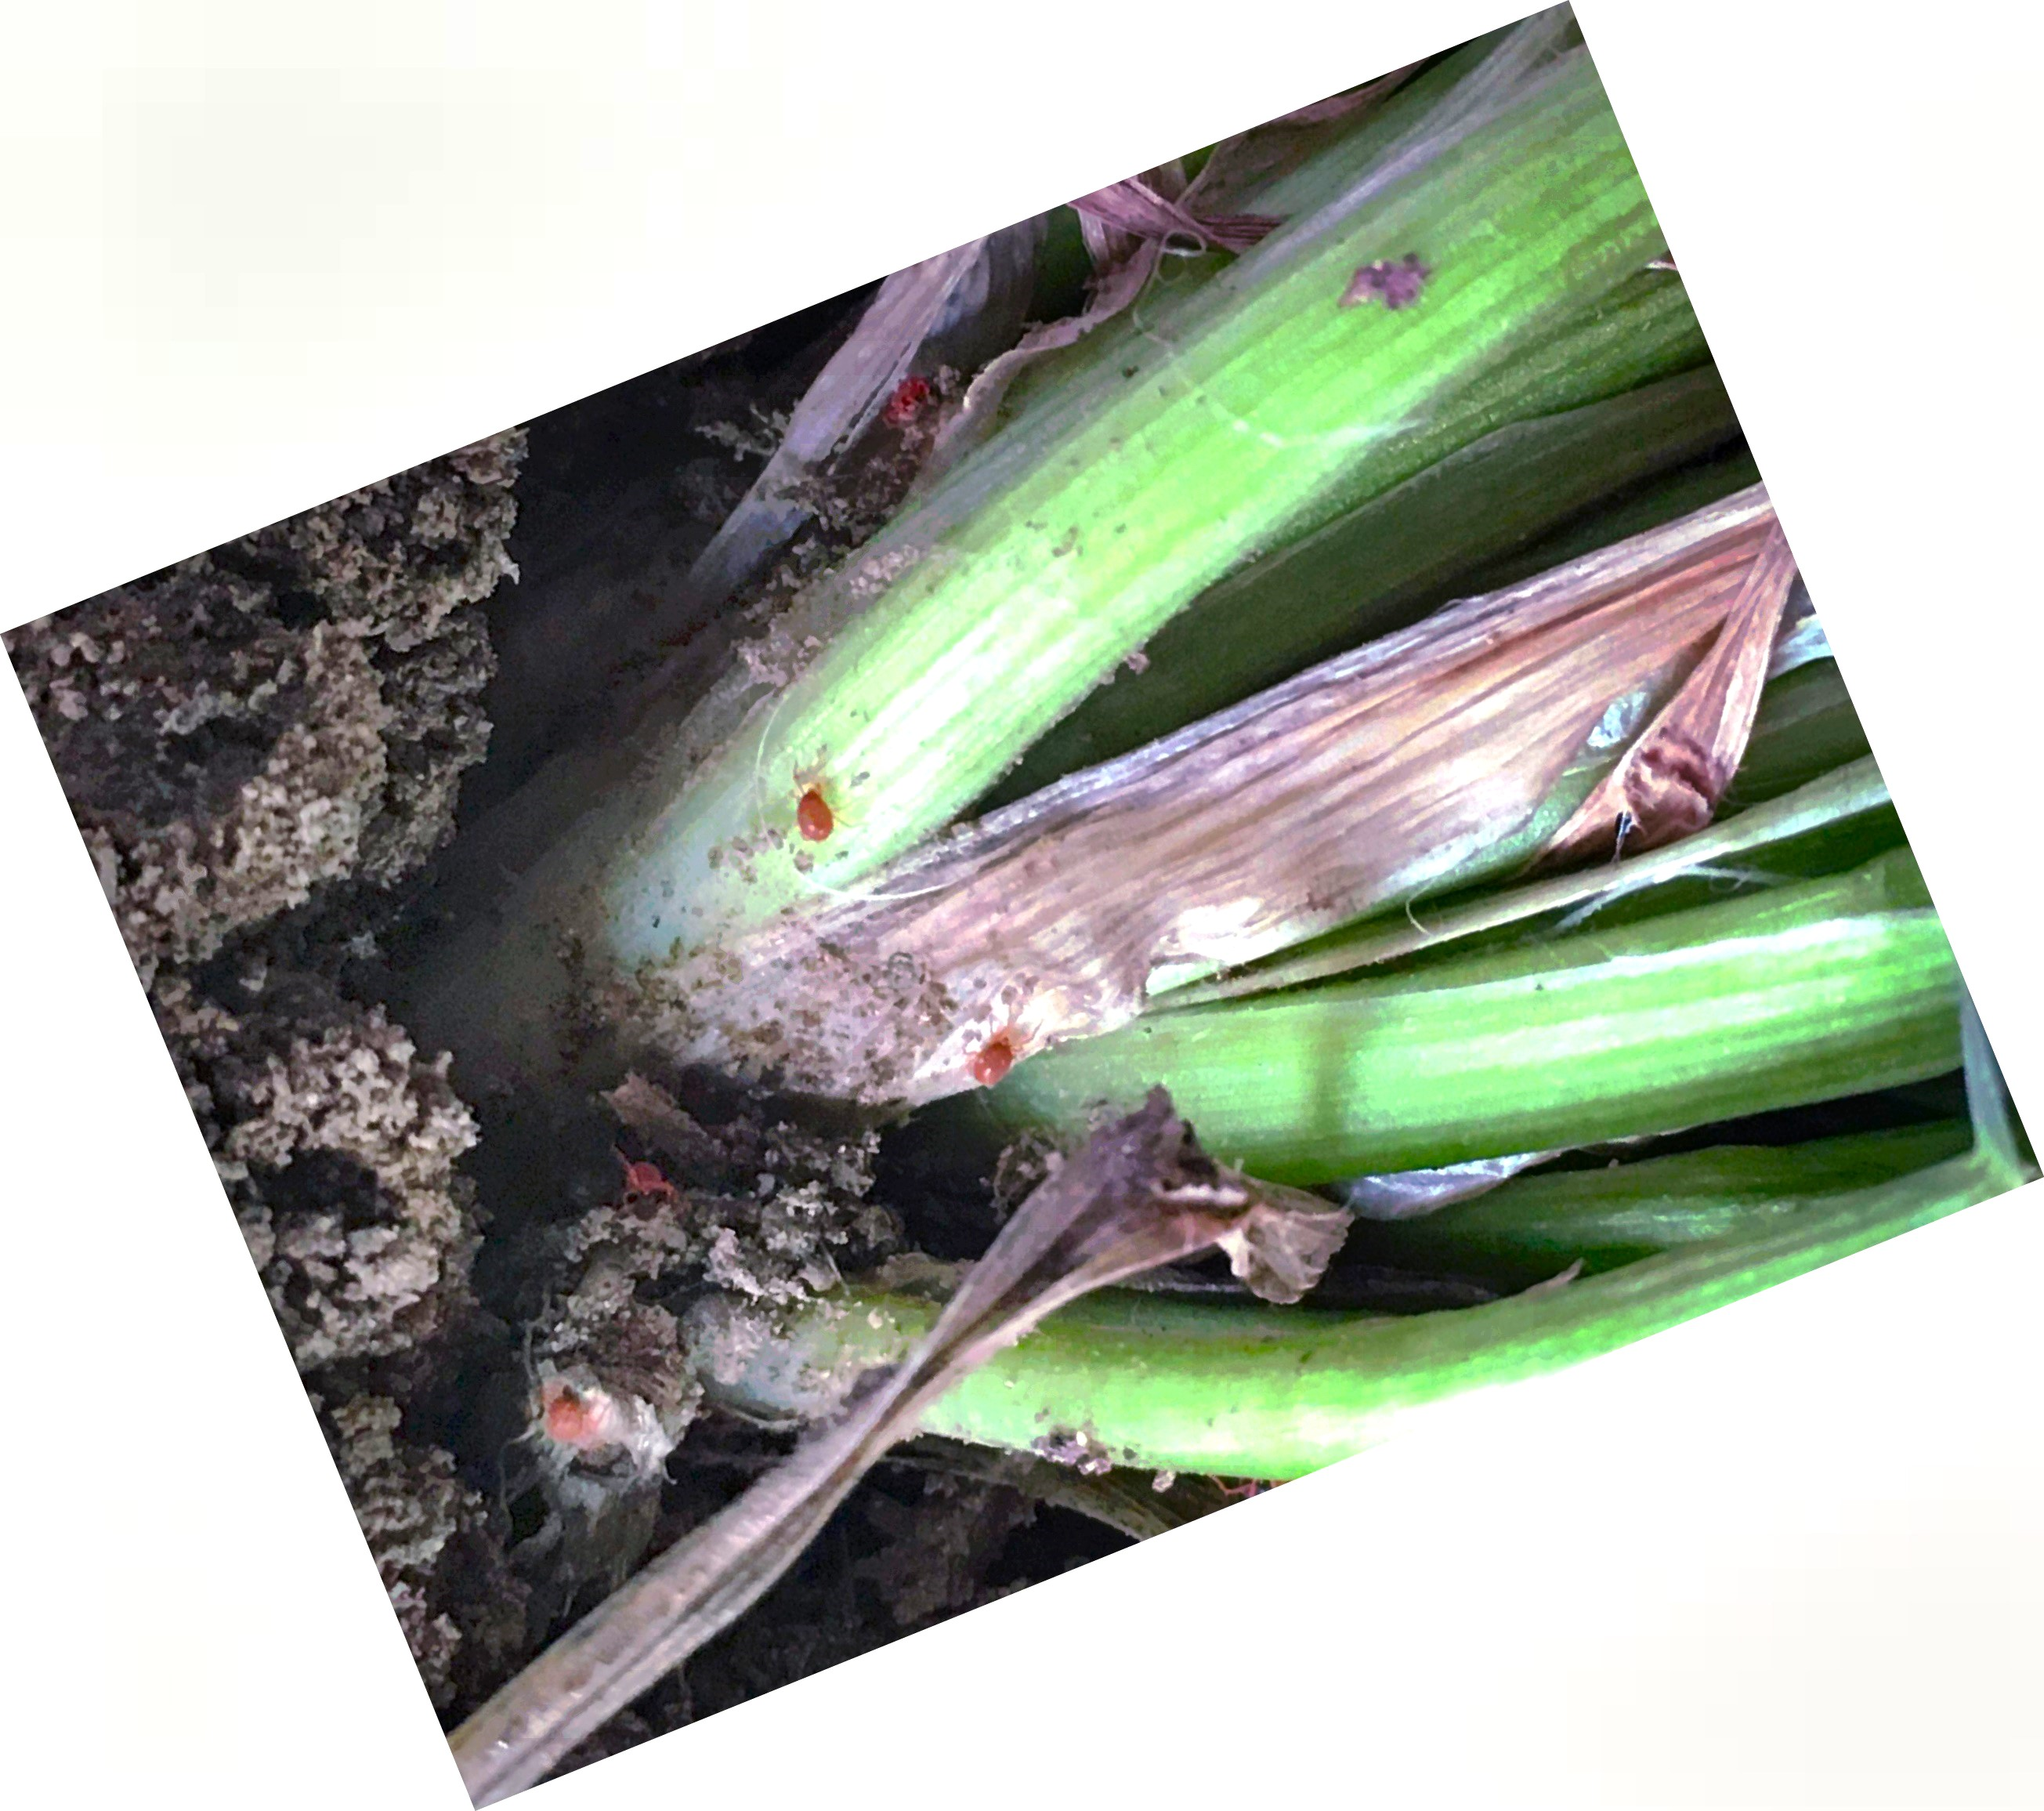Wheat Red Spider: (949, 1000, 1041, 1107), (772, 757, 851, 879)
